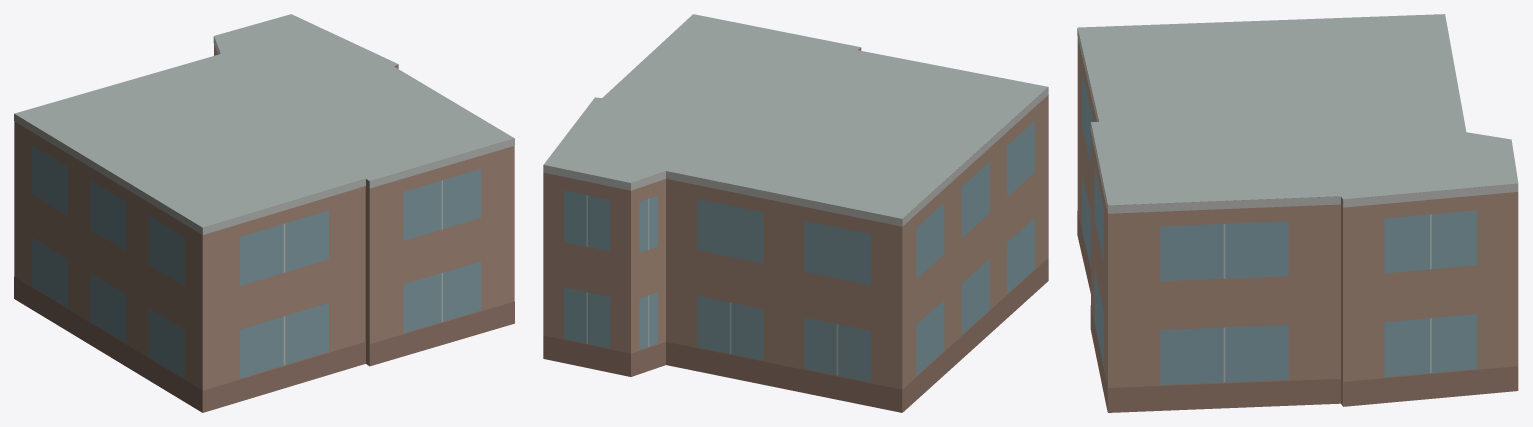
File: survey-upis-32652711.glb
The picture shows the model from 3 angles, left to right: view 1: azimuth 30°, elevation 25°; view 2: azimuth 150°, elevation 25°; view 3: azimuth 270°, elevation 25°; orthographic projection. The views are drawn at different scales.
Parts seen in each view (by area): view 1: survey-upis-32652711.tmp; view 2: survey-upis-32652711.tmp; view 3: survey-upis-32652711.tmp.
Part boxes in pixels (box(x1,y1,x2,y2)): survey-upis-32652711.tmp: box(14, 14, 514, 412); survey-upis-32652711.tmp: box(543, 14, 1048, 412); survey-upis-32652711.tmp: box(1077, 14, 1518, 412).
Bounding box in the file's own units: 12.08 × 6.1 × 11.76.
